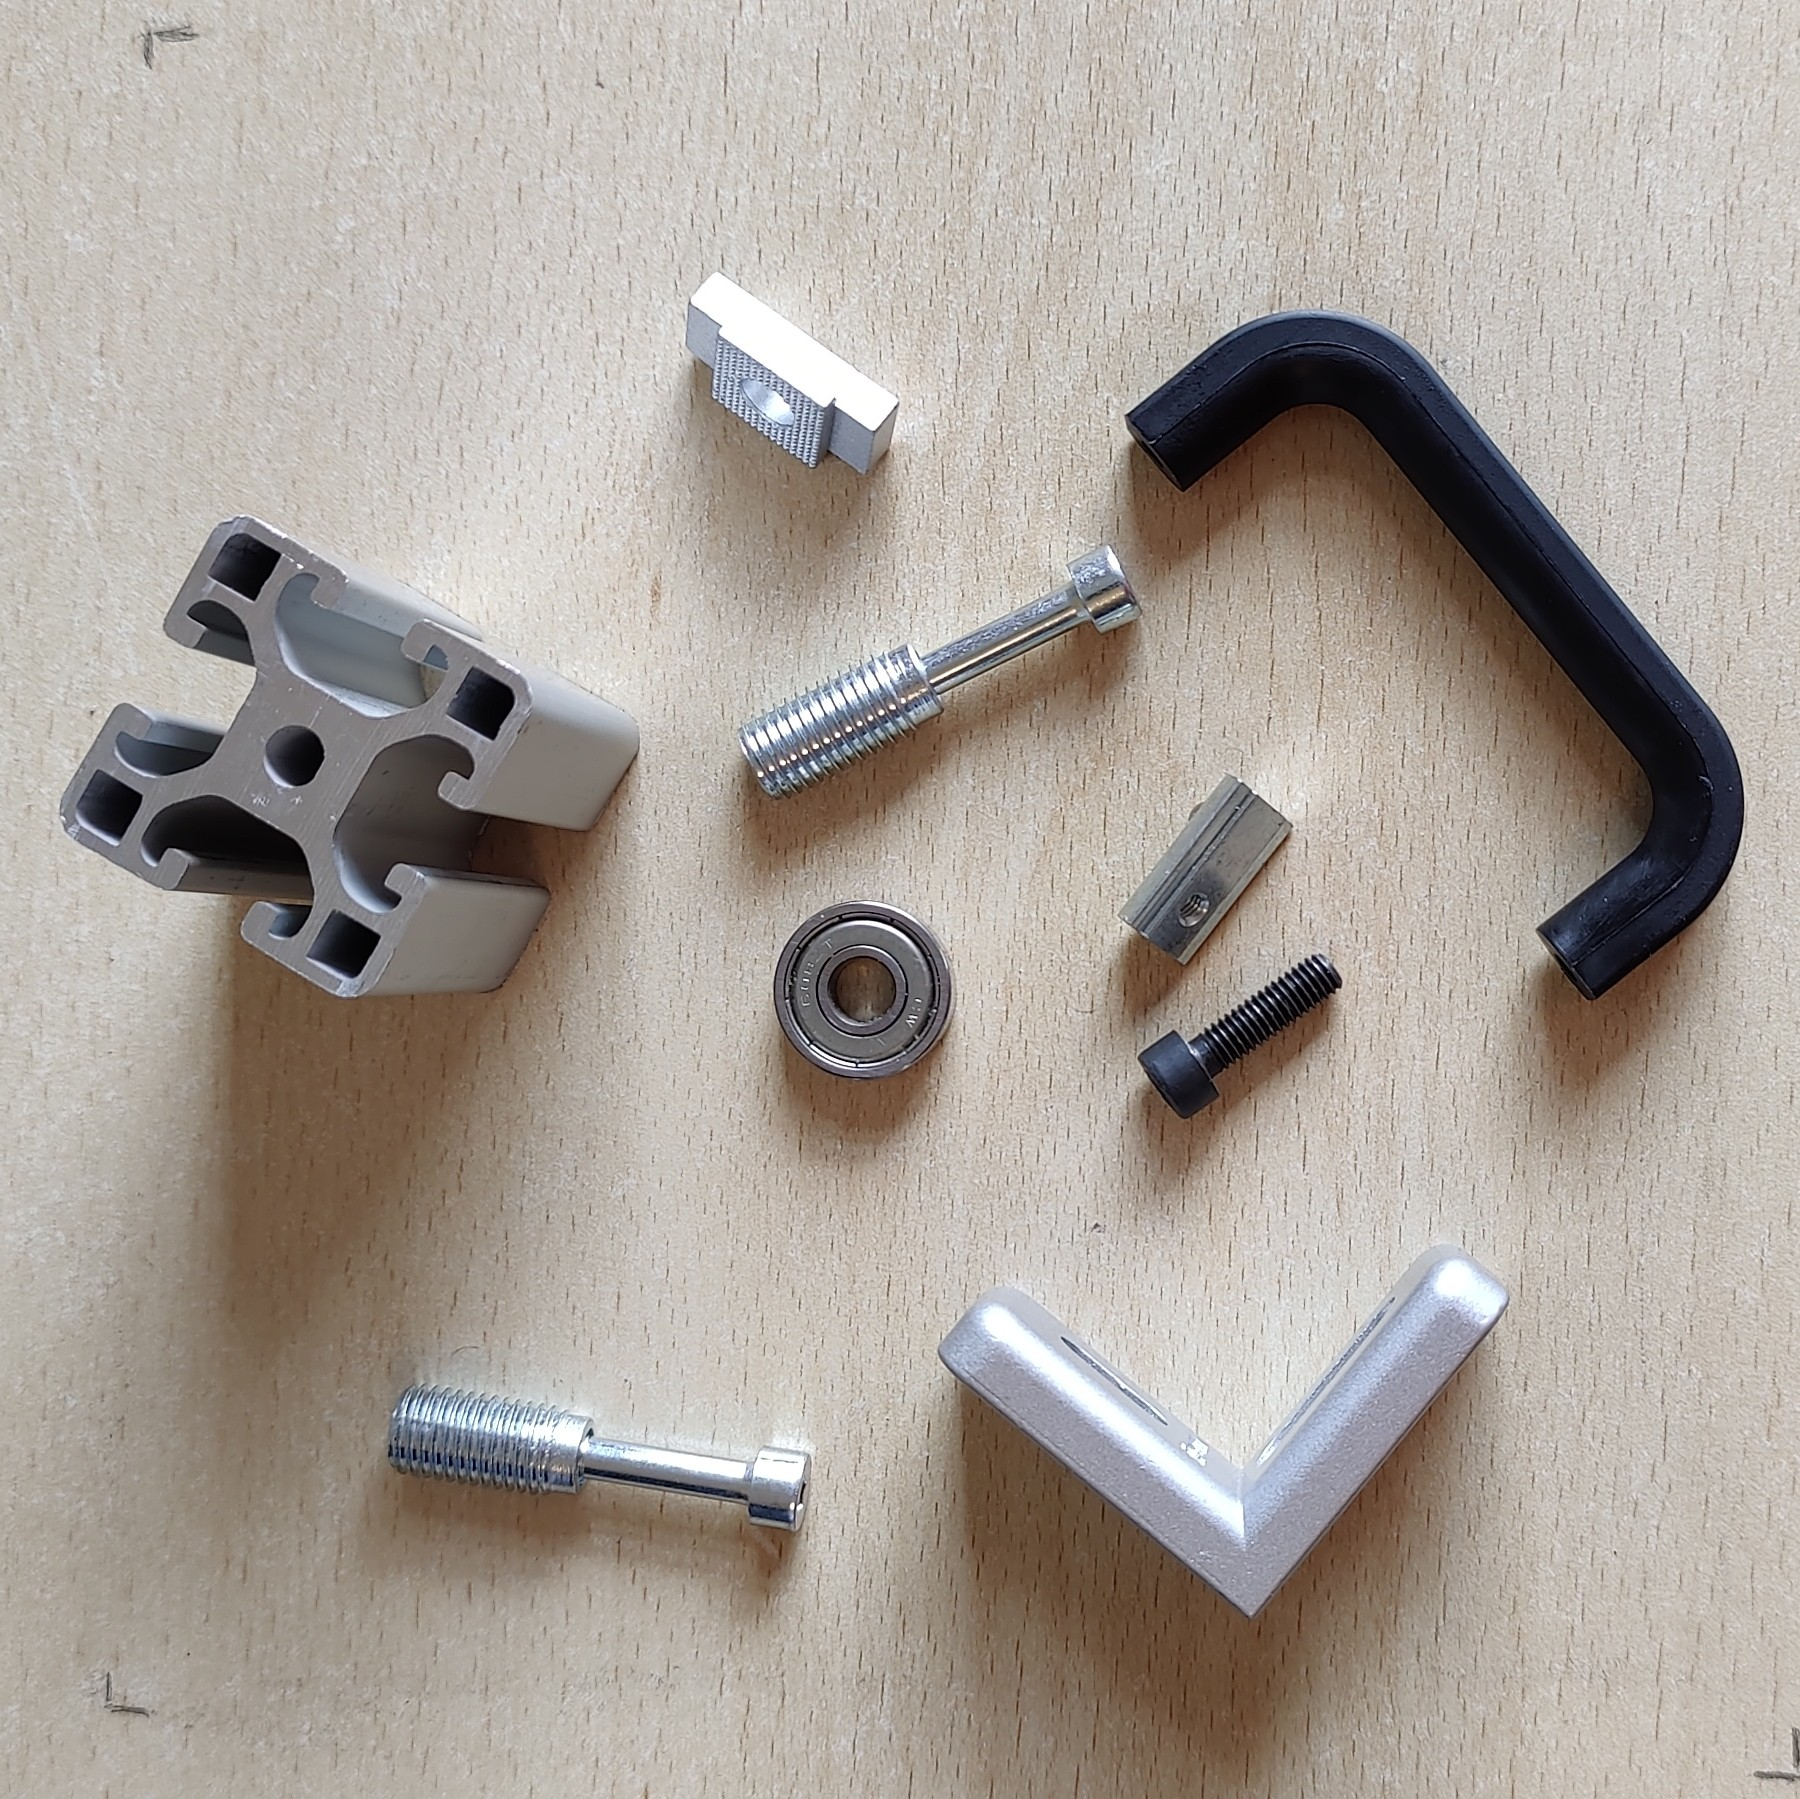Aluminium Extension: (56, 514, 642, 1003)
Ball Bearing: (771, 898, 957, 1084)
Multiwinkel: (934, 1241, 1517, 1624)
Pull Handle: (1123, 306, 1747, 1003)
Shoulder Socket Head Cap Screw: (733, 539, 1149, 804), (382, 1377, 815, 1537)
Socket Head Cap Screw: (1135, 947, 1347, 1124)
T Nut Square: (682, 264, 902, 481)
T Spring Nut: (1115, 768, 1298, 969)
